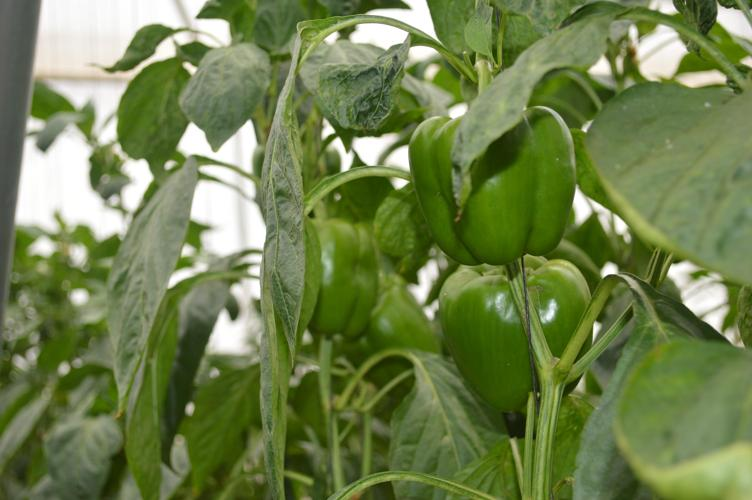BellPepper: (404, 105, 573, 254), (433, 262, 596, 404), (345, 274, 438, 383), (301, 216, 376, 333)
